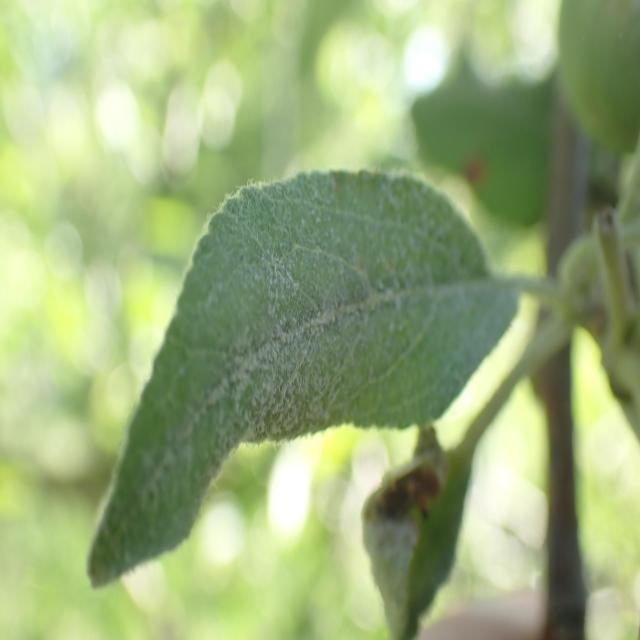Powdery_mildew: (75, 146, 540, 590)
